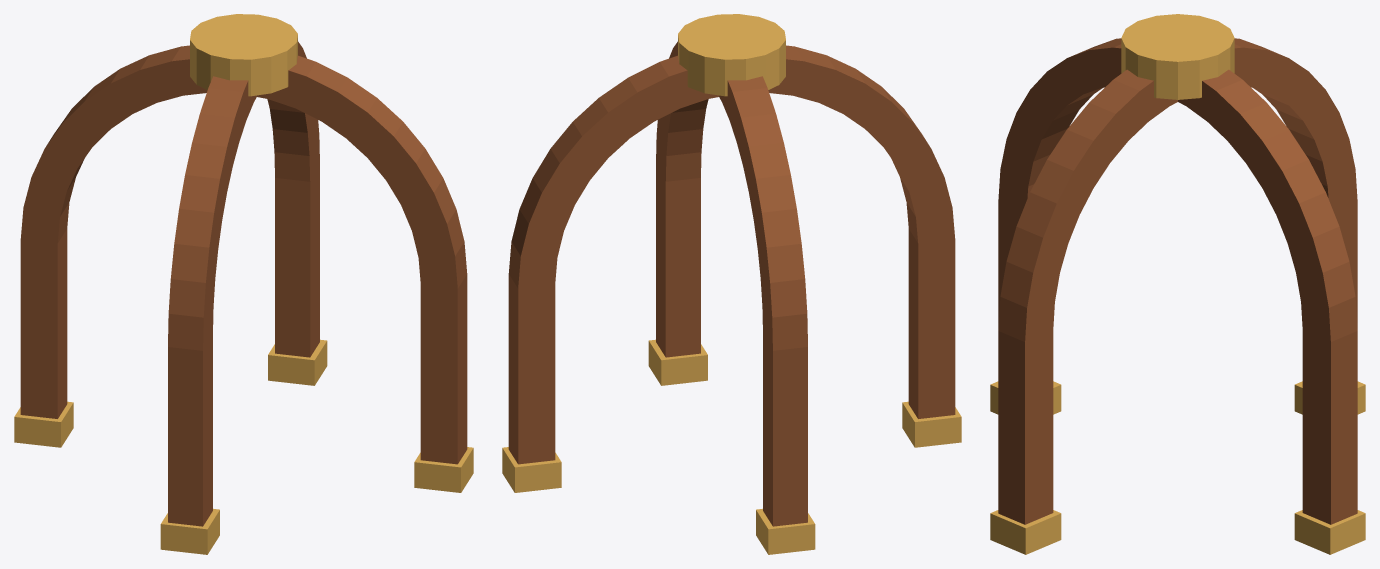
File: wardrobe.glb
3 views of the same model, side by side, from view 1: azimuth 30°, elevation 25°; view 2: azimuth 150°, elevation 25°; view 3: azimuth 270°, elevation 25° (orthographic). The views are drawn at different scales.
Visible parts, largest first — view 1: Wardrobe; view 2: Wardrobe; view 3: Wardrobe.
Part boxes in pixels (<box>): Wardrobe: <box>14,14,473,554</box>; Wardrobe: <box>502,14,961,554</box>; Wardrobe: <box>990,14,1365,554</box>.
Size of the model in its own units: 0.8945 by 1.15 by 0.8945.
